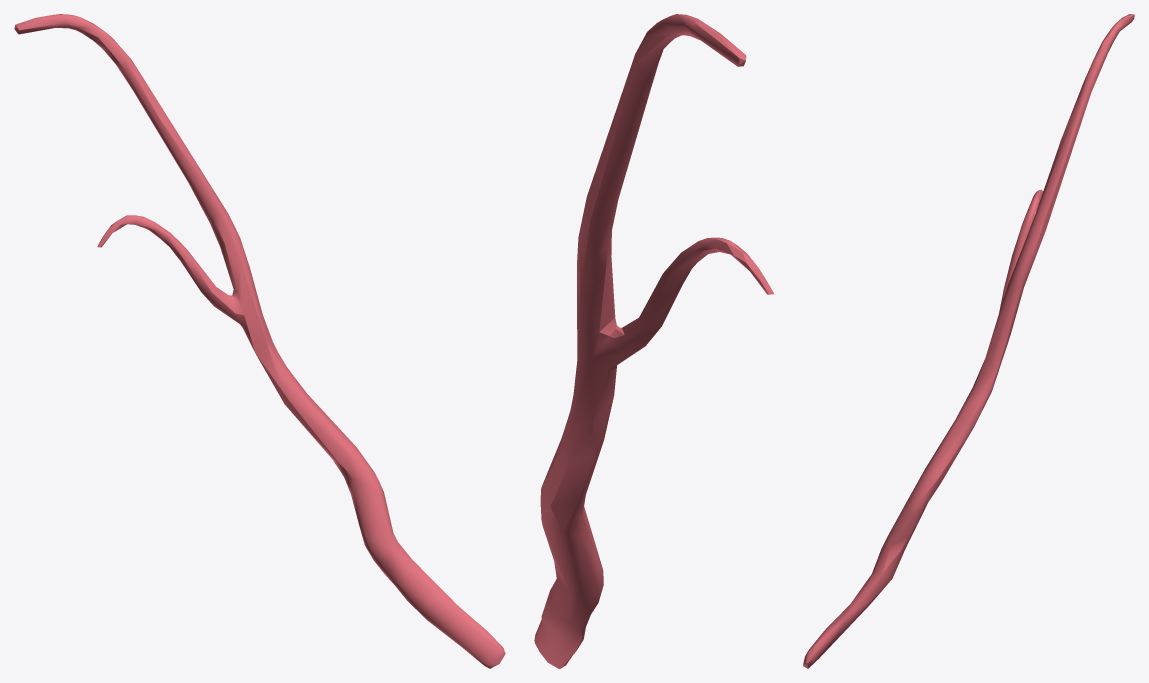
The model's file is fma14343_fj3580.glb.
3 views of the same model, side by side, from view 1: azimuth 30°, elevation 25°; view 2: azimuth 150°, elevation 25°; view 3: azimuth 270°, elevation 25° (orthographic). The views are drawn at different scales.
Parts seen in each view (by area): view 1: FMA14343_FJ3580; view 2: FMA14343_FJ3580; view 3: FMA14343_FJ3580.
Boxes of the visible parts, left/top/right/bottom form: FMA14343_FJ3580: left=14, top=14, right=505, bottom=668; FMA14343_FJ3580: left=534, top=14, right=774, bottom=668; FMA14343_FJ3580: left=803, top=14, right=1134, bottom=668.
Size of the model in its own units: 0.0271 by 0.0493 by 0.0279.
